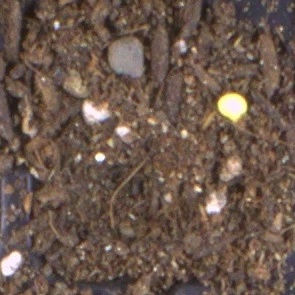chilli seed: (216, 92, 248, 122)
